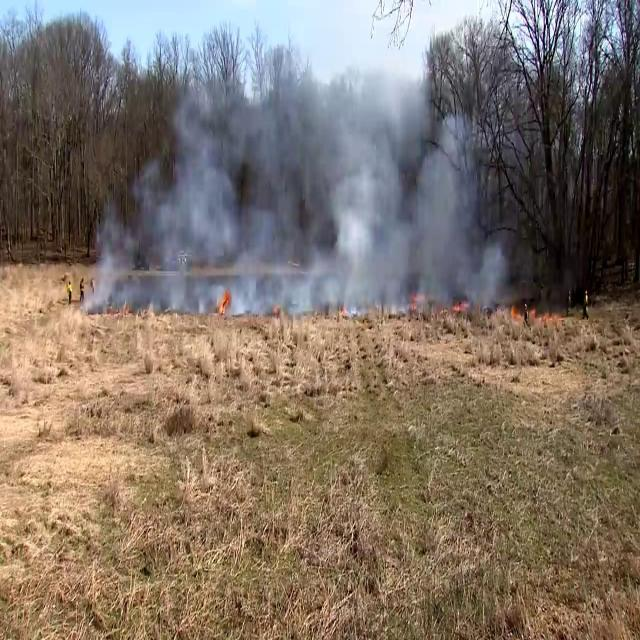Fire: (218, 290, 231, 316), (541, 308, 563, 322), (509, 304, 525, 322), (452, 300, 462, 311)
